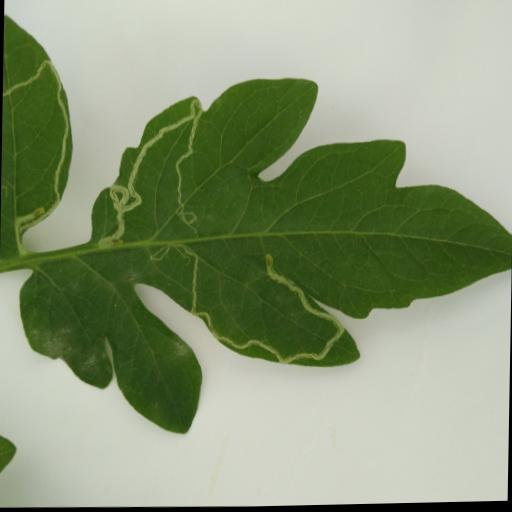Leaf_Miner: (18, 72, 512, 447), (0, 12, 76, 242)
